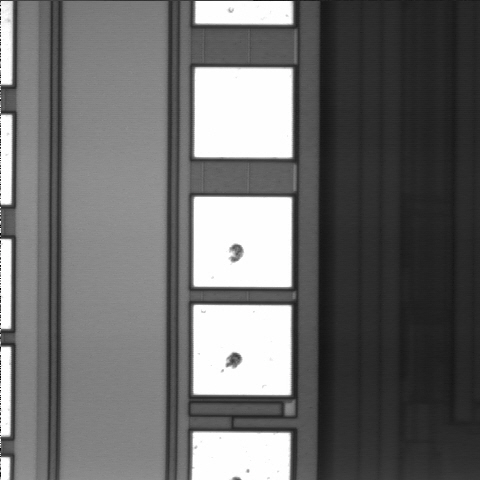pad: (194, 67, 292, 158), (193, 197, 292, 287), (193, 305, 291, 395)
